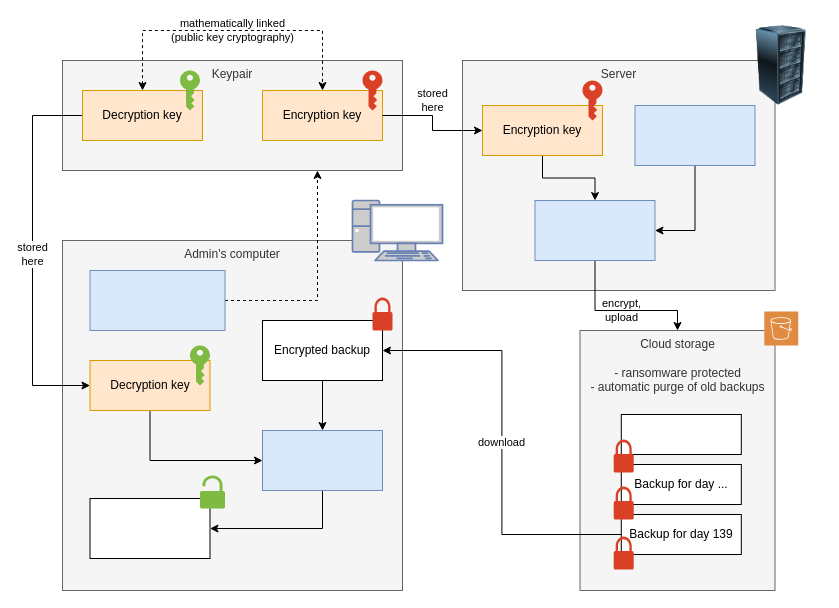
Some shapes in this 839 by 608 pixel diagram are drawn without their labels. Each missing label, with the centre of its shape:
"Backup for day 125" belongs at pixel 680 434.
"Decrypted backup" belongs at pixel 149 528.
"Generate keypair here (so servers doesn't know the decryption key)" belongs at pixel 157 300.
"Your services" belongs at pixel 694 135.
"µbackup" belongs at pixel 594 230.
"µbackup decrypt" belongs at pixel 322 460.
